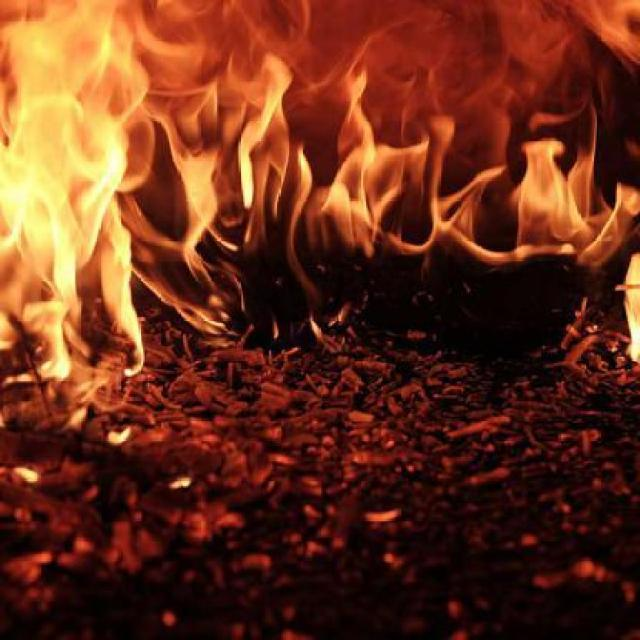Fire: (0, 2, 640, 457), (7, 456, 42, 489)
